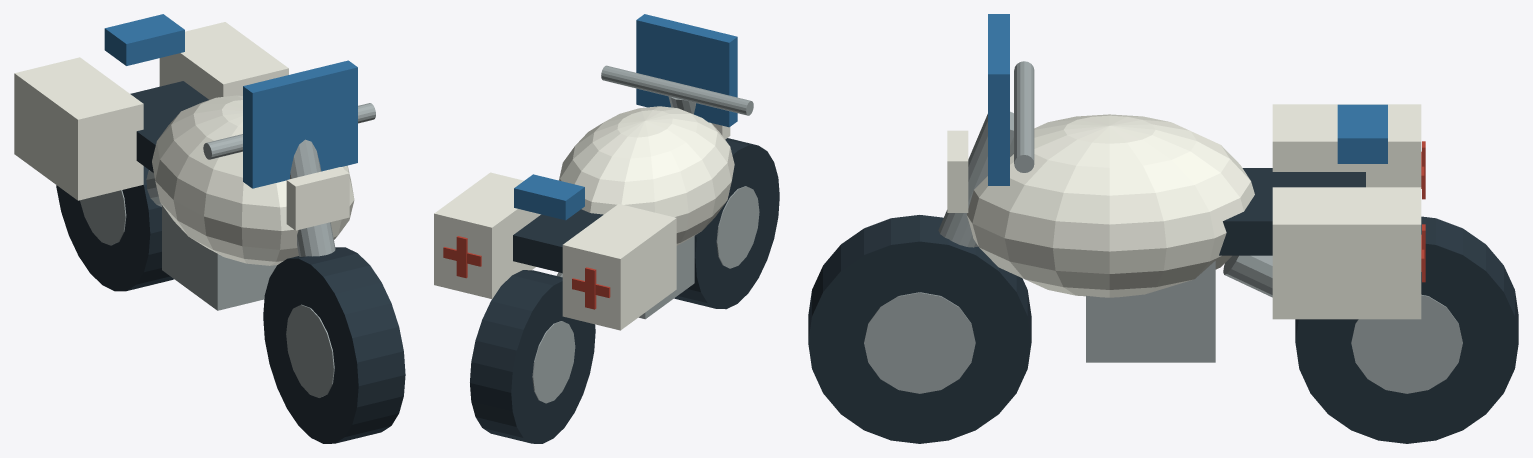
Rendered from scendance-plan-paramedic-motorbike.glb.
The picture shows the model from 3 angles, left to right: view 1: azimuth 30°, elevation 25°; view 2: azimuth 150°, elevation 25°; view 3: azimuth 270°, elevation 25°; orthographic projection. The views are drawn at different scales.
Bounding box in the file's own units: 0.9 × 1.35 × 2.25.
